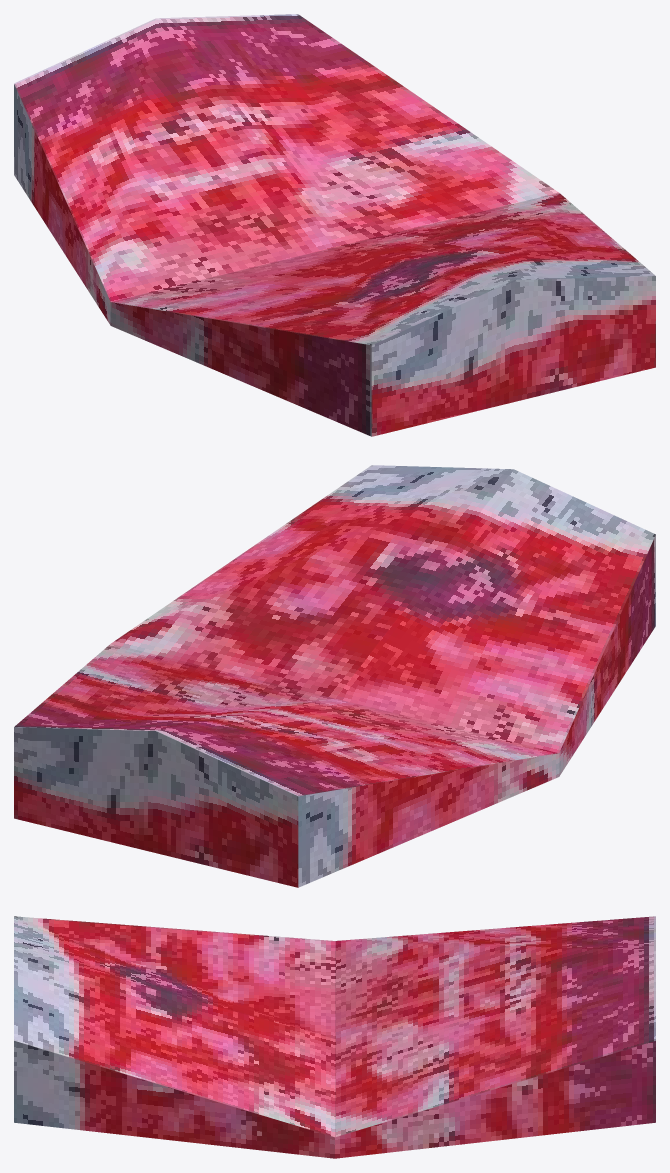
File: w_crumpled-can.glb
The picture shows the model from 3 angles, top to bottom: view 1: azimuth 30°, elevation 25°; view 2: azimuth 150°, elevation 25°; view 3: azimuth 270°, elevation 25°; orthographic projection. The views are drawn at different scales.
Visible parts, largest first — view 1: Can; view 2: Can; view 3: Can.
Boxes of the visible parts, x1,y1,x2,y2 form: Can: (14,14,655,436); Can: (14,465,655,887); Can: (14,916,655,1158).
Size of the model in its own units: 0.2209 by 0.0574 by 0.3053.
1 material, 1 textured.
